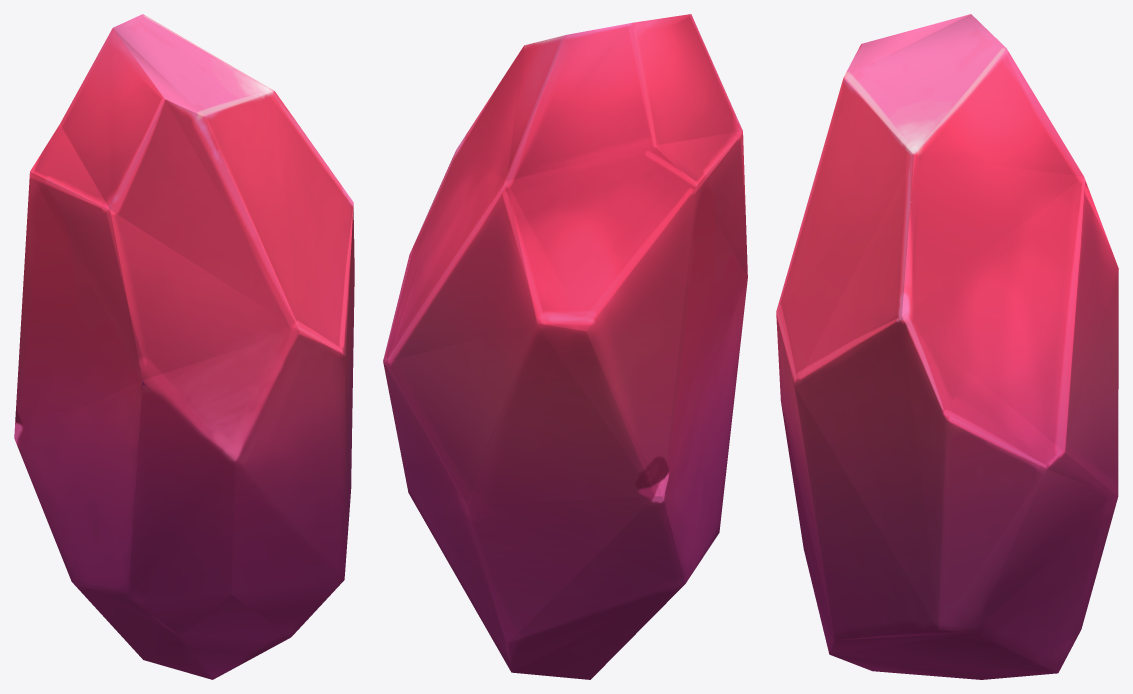
Rendered from Crystal_02.glb.
3 renders of one model, left to right at view 1: azimuth 30°, elevation 25°; view 2: azimuth 150°, elevation 25°; view 3: azimuth 270°, elevation 25°, orthographic. The views are drawn at different scales.
Visible parts, largest first — view 1: Object_2; view 2: Object_2; view 3: Object_2.
Part boxes in pixels (x1=…): Object_2: x1=14, y1=14, x2=354, y2=679; Object_2: x1=383, y1=14, x2=747, y2=679; Object_2: x1=776, y1=14, x2=1118, y2=679.
Size of the model in its own units: 1.58 by 3.22 by 1.54.
Materials: 1 (1 with a texture image).
